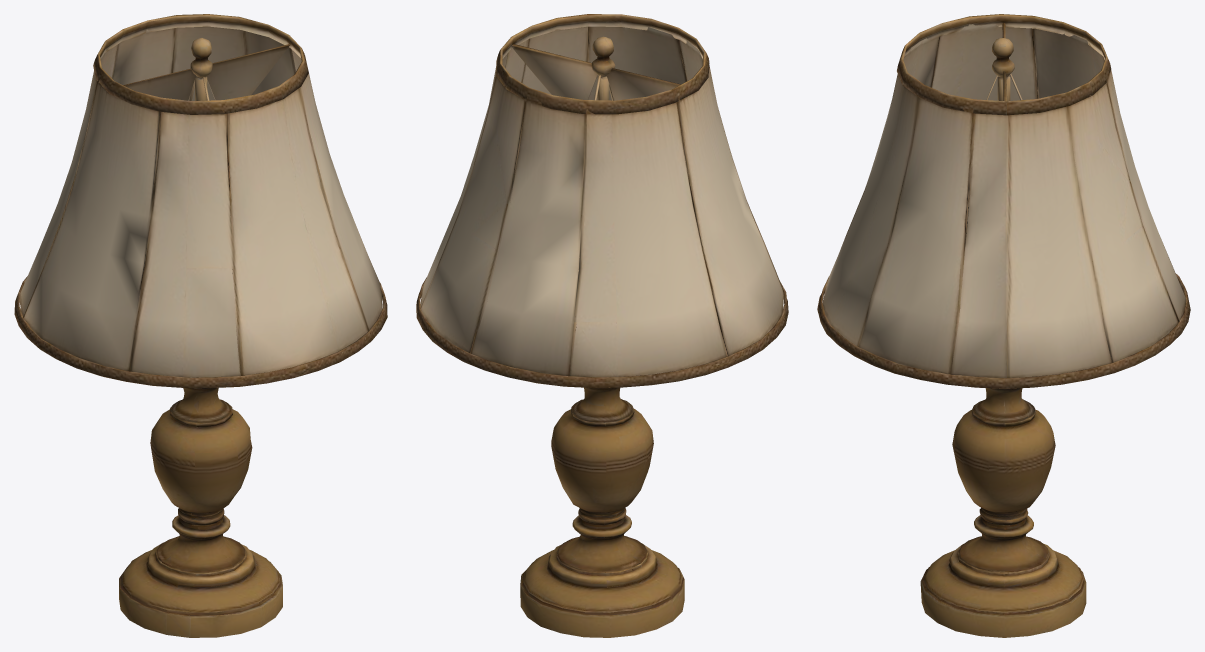
File: lighting-table-lamp.glb
3 renders of one model, left to right at view 1: azimuth 30°, elevation 25°; view 2: azimuth 150°, elevation 25°; view 3: azimuth 270°, elevation 25°, orthographic.
Visible parts, largest first — view 1: tripo_node_15ff0661-7f31-49c8-8d49-8f727878a4d4; view 2: tripo_node_15ff0661-7f31-49c8-8d49-8f727878a4d4; view 3: tripo_node_15ff0661-7f31-49c8-8d49-8f727878a4d4.
Part boxes in pixels (x1=…): tripo_node_15ff0661-7f31-49c8-8d49-8f727878a4d4: x1=14, y1=14, x2=387, y2=637; tripo_node_15ff0661-7f31-49c8-8d49-8f727878a4d4: x1=416, y1=14, x2=788, y2=637; tripo_node_15ff0661-7f31-49c8-8d49-8f727878a4d4: x1=817, y1=14, x2=1190, y2=637.
Size of the model in its own units: 0.3 by 0.5 by 0.3.
1 material, 1 textured.
